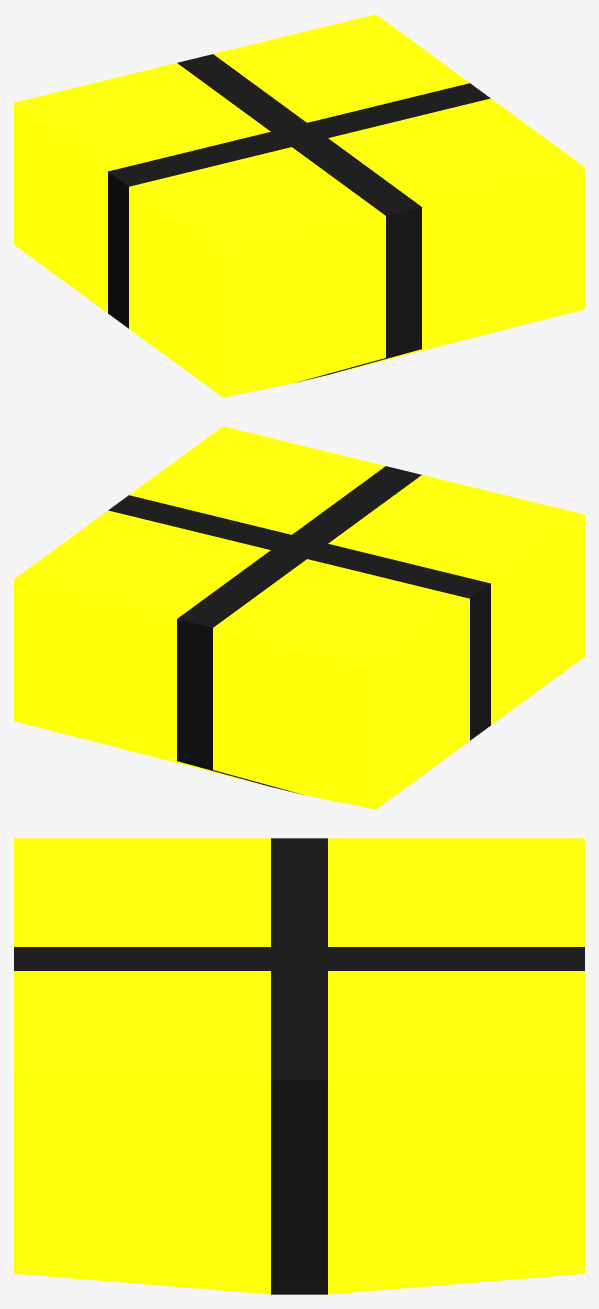
Rendered from s0_corridor_0_spotlight.fbx.
3 renders of one model, top to bottom at view 1: azimuth 30°, elevation 25°; view 2: azimuth 150°, elevation 25°; view 3: azimuth 270°, elevation 25°, orthographic. The views are drawn at different scales.
Visible parts, largest first — view 1: Spotlight; view 2: Spotlight; view 3: Spotlight.
Boxes of the visible parts, bbox=[...] form: Spotlight: bbox=[14, 14, 584, 397]; Spotlight: bbox=[14, 426, 584, 809]; Spotlight: bbox=[14, 838, 584, 1294].
Size of the model in its own units: 40 by 25 by 40.
